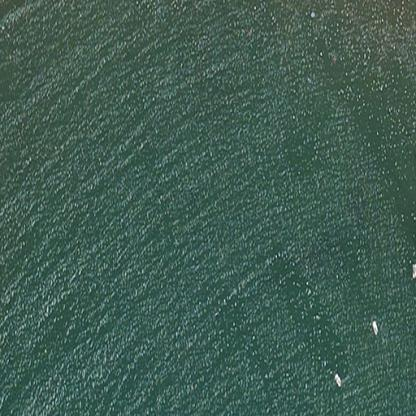ship: (327, 372, 339, 385), (372, 319, 376, 333), (413, 262, 413, 279)
